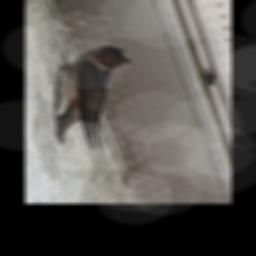Swallow: (52, 45, 131, 150)
